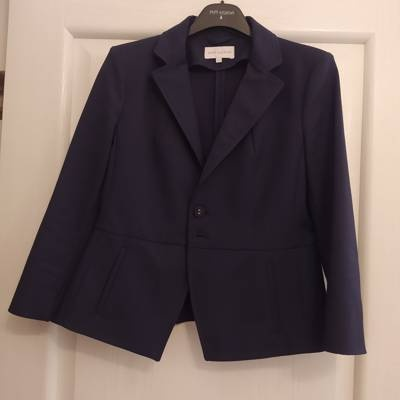Blazer: (8, 29, 364, 369)
